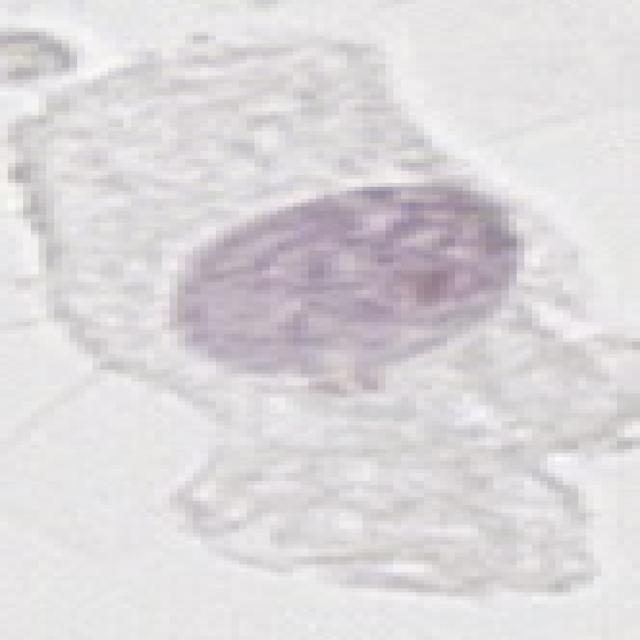nucleus: (140, 162, 545, 401)
